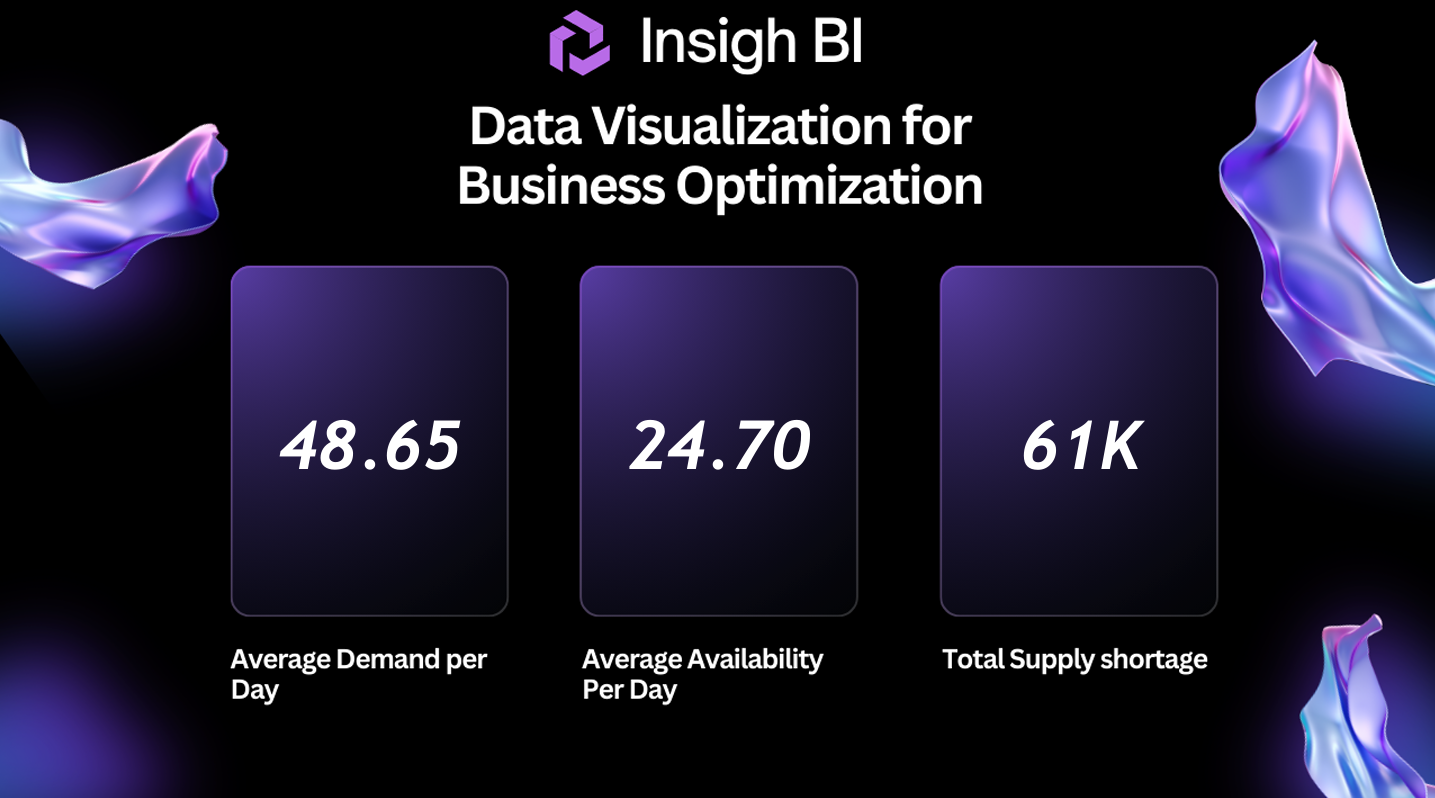

What the dashboard file says about the page in this screenshot:
{"tool":"powerbi","page":{"name":"Page 1","canvas":[1280,720],"ordinal":0},"visuals":[{"type":"card","fields":{"Values":["Measures Table.Average Demand Per Day"]},"box":[220.2,254.9,220.2,273.4],"z":0},{"type":"card","fields":{"Values":["Measures Table.Average Availability Per Day"]},"box":[529.5,254.9,220.2,273.4],"z":1000},{"type":"card","fields":{"Values":["Measures Table.Total Supply Shortage"]},"box":[852.4,254.9,220.2,273.4],"z":2000}]}

Visuals, with their boxes in screenshot pixels (x1, y1, x2, y2), scaled from the page's 1280x720 canvas onto the 1435x798 screenshot:
card - Measures Table.Average Demand Per Day: x1=247, y1=283, x2=494, y2=586
card - Measures Table.Average Availability Per Day: x1=594, y1=283, x2=840, y2=586
card - Measures Table.Total Supply Shortage: x1=956, y1=283, x2=1202, y2=586
